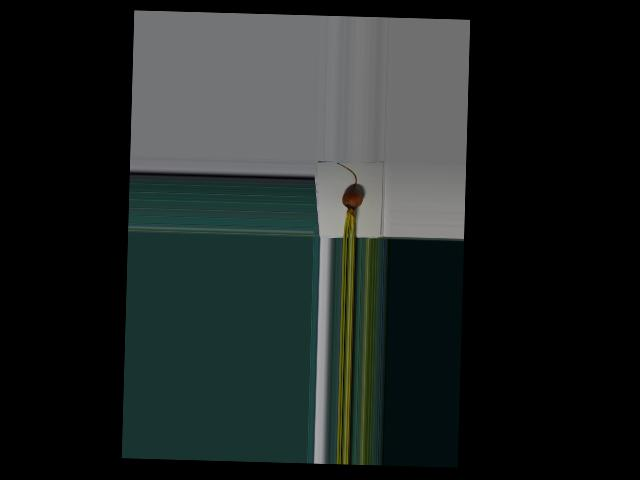beet: (335, 162, 363, 238)
